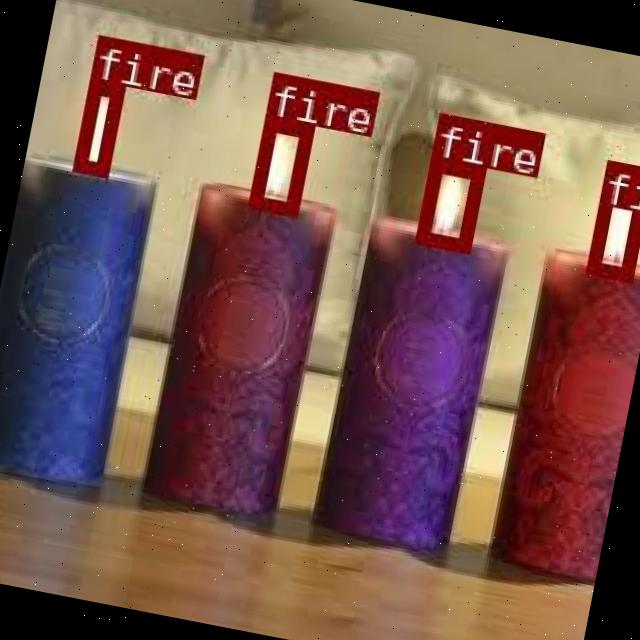fire: (414, 154, 482, 248), (586, 160, 640, 278), (247, 116, 312, 214), (70, 78, 124, 174)
